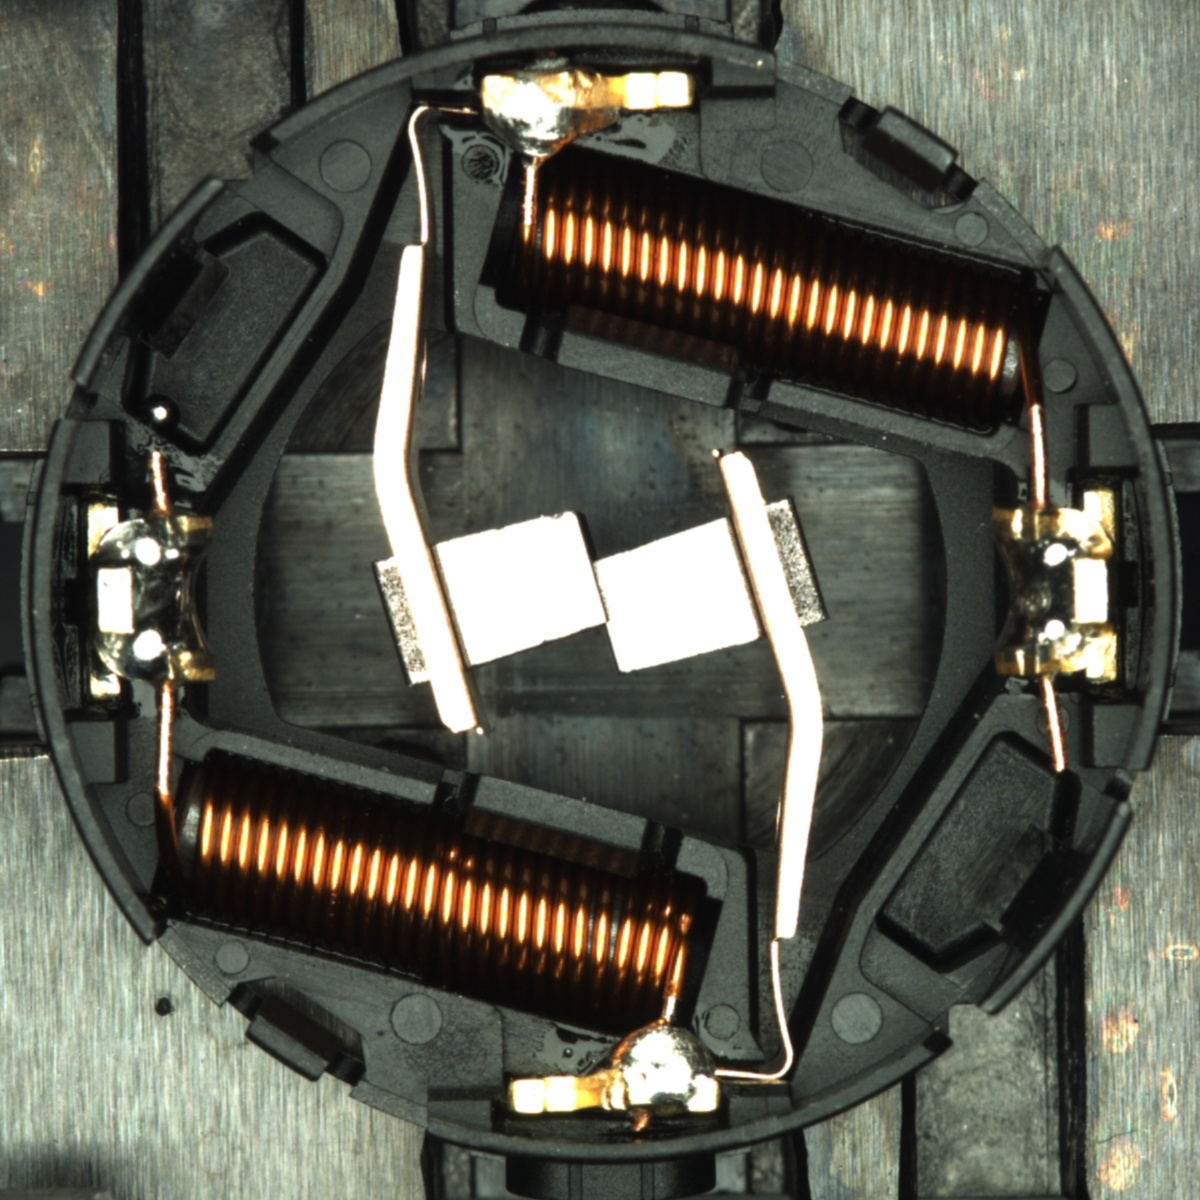1: (252, 31, 481, 255), (711, 929, 940, 1153)
2: (252, 929, 481, 1153), (711, 31, 940, 255)
3: (23, 255, 252, 480), (940, 704, 1169, 929)
4: (252, 255, 481, 480), (711, 704, 940, 929)
5: (481, 143, 711, 368), (481, 816, 711, 1041)
6: (711, 255, 940, 480), (252, 704, 481, 929)
7: (940, 255, 1169, 480), (23, 704, 252, 929)
bui_chi: (146, 398, 176, 427)
cacbon: (395, 499, 797, 685)
chau_dien: (80, 498, 220, 699), (984, 489, 1123, 686)
hat_chi: (144, 396, 178, 430)
tay_choi: (480, 68, 697, 168), (508, 1016, 722, 1116)
thanh_de: (954, 788, 1142, 1031), (59, 164, 244, 404)
